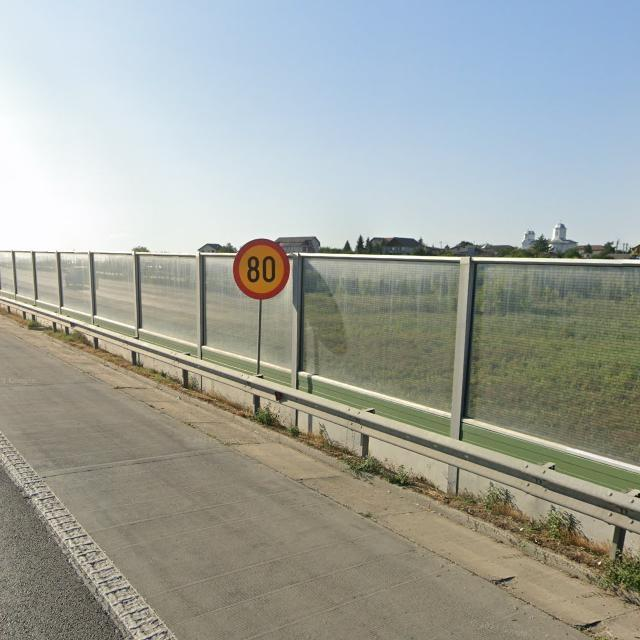forb_speed_over_80: (233, 238, 291, 299)
